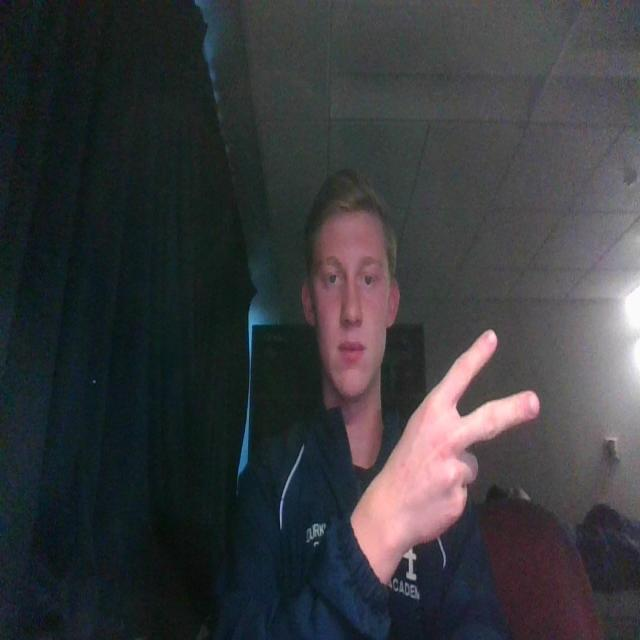scissors: (368, 325, 546, 559)
